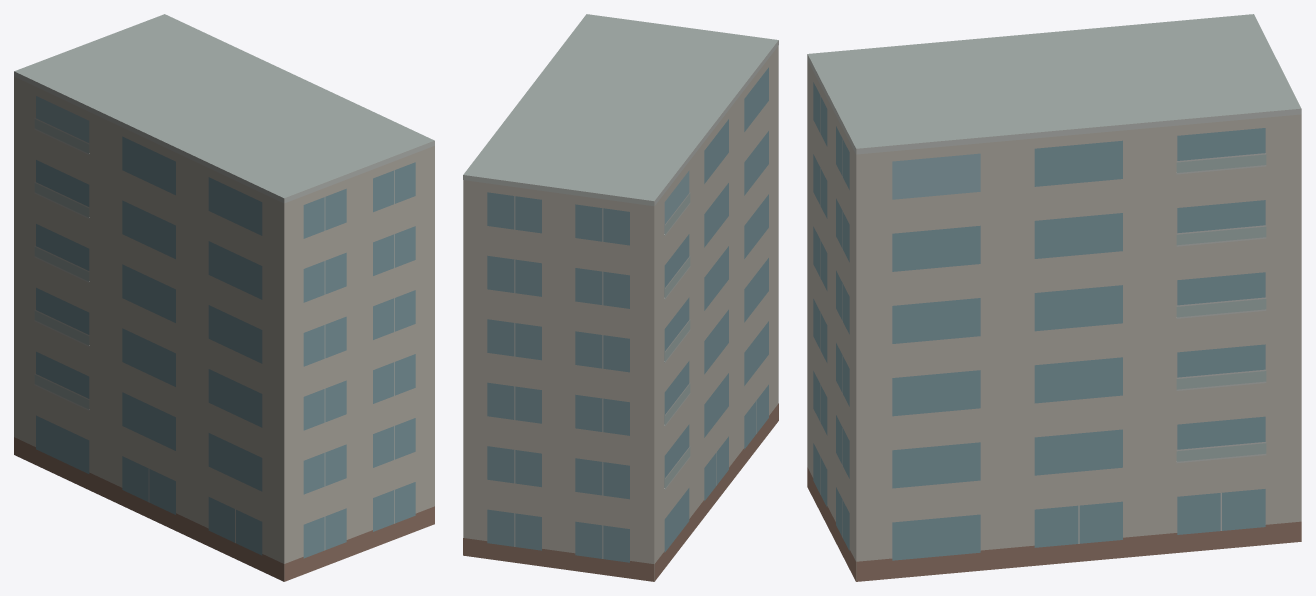
The model's file is survey-upis-32704997.glb.
3 views of the same model, side by side, from view 1: azimuth 30°, elevation 25°; view 2: azimuth 150°, elevation 25°; view 3: azimuth 270°, elevation 25° (orthographic). The views are drawn at different scales.
Visible parts, largest first — view 1: survey-upis-32704997.tmp; view 2: survey-upis-32704997.tmp; view 3: survey-upis-32704997.tmp.
Part boxes in pixels (left/top/right/bottom): survey-upis-32704997.tmp: left=14, top=14, right=434, bottom=581; survey-upis-32704997.tmp: left=463, top=14, right=778, bottom=581; survey-upis-32704997.tmp: left=807, top=14, right=1301, bottom=581.
Size of the model in its own units: 12.22 by 18.3 by 18.93.
